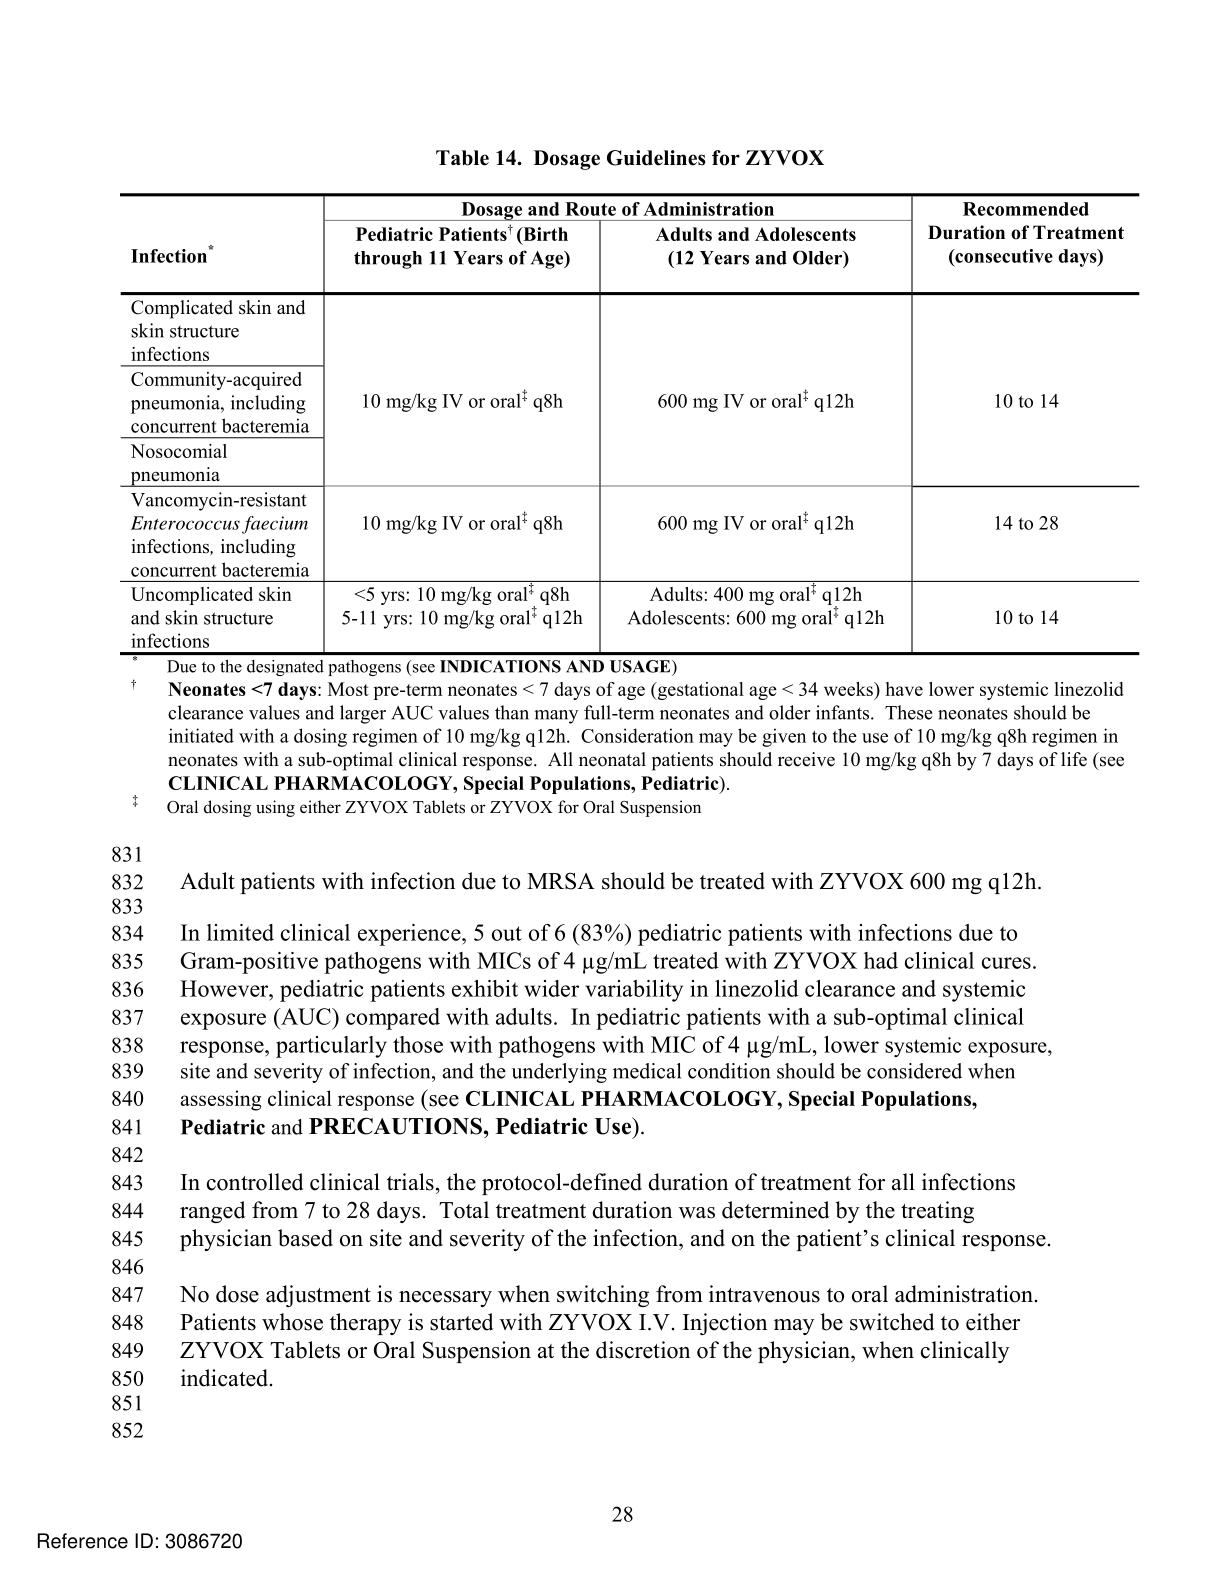partial_lined_merged_cells: (117, 190, 1140, 656)
